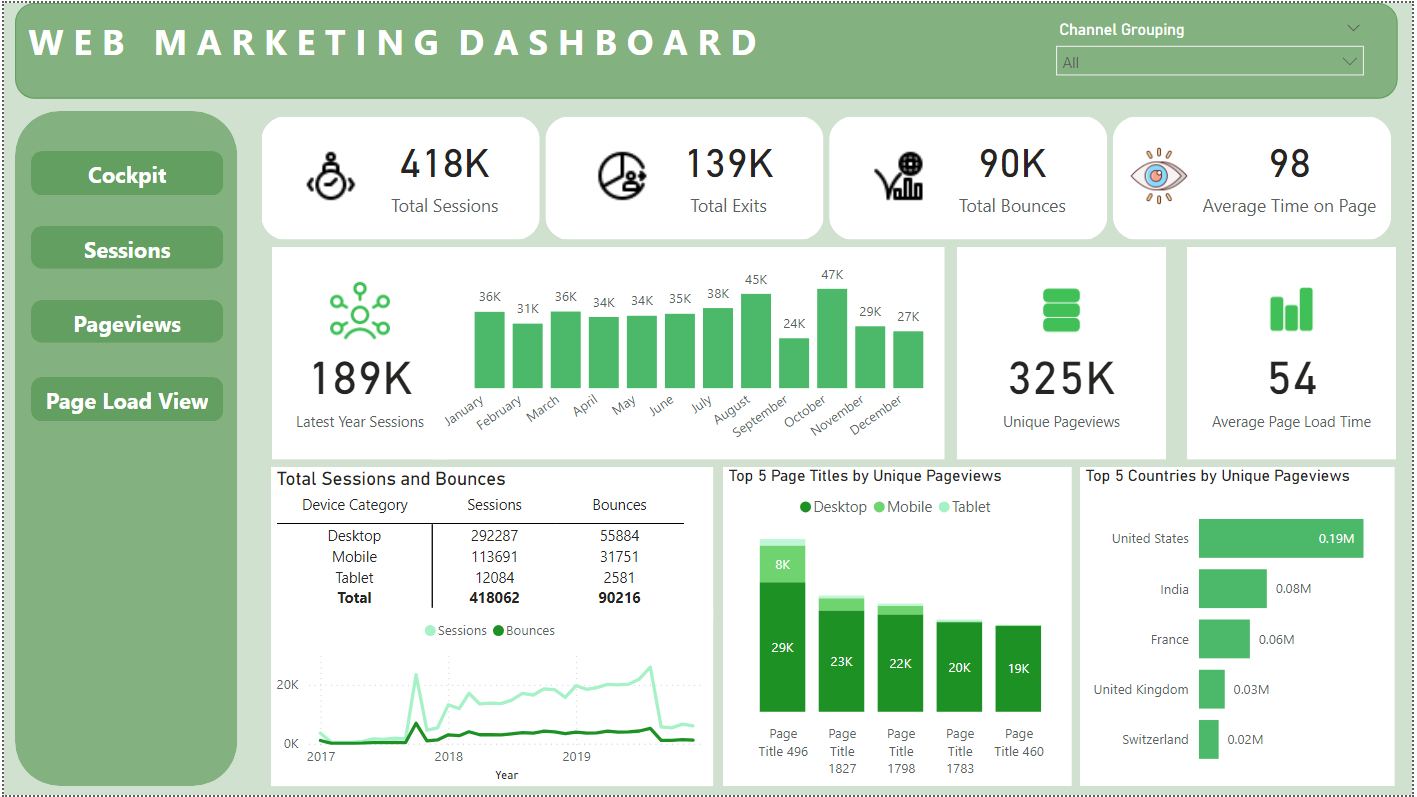

The page's visual inventory and layout, read from the dashboard file:
{"tool":"powerbi","page":{"name":"Page 1","canvas":[1280,720],"ordinal":0},"visuals":[{"type":"textbox","box":[9.7,0,1256.5,87.4],"z":0},{"type":"shape","box":[9.8,98.4,202.2,613.6],"z":1000},{"type":"actionButton","box":[24.3,134.4,174.9,40.5],"z":2000},{"type":"actionButton","box":[24.3,202.4,174.9,38.9],"z":3000},{"type":"actionButton","box":[24.3,270.4,174.9,38.9],"z":4000},{"type":"actionButton","box":[24.3,340,174.9,40.5],"z":5000},{"type":"cardVisual","fields":{"Data":["Sum(Web Marketing_Migrated Data.Sessions)","Sum(Web Marketing_Migrated Data.Exits)","Sum(Web Marketing_Migrated Data.Bounces)","Avg(Web Marketing_Migrated Data.Time on Page)"]},"box":[228.7,98.3,1037.5,122.8],"z":6000},{"type":"cardVisual","fields":{"Data":["Sum(Web Marketing_Migrated Data.Sessions)"]},"box":[243.3,221.7,160,193.3],"z":7000},{"type":"cardVisual","fields":{"Data":["Sum(Web Marketing_Migrated Data.Unique Pageviews)"]},"box":[866.7,221.7,190,193.3],"z":8000},{"type":"cardVisual","fields":{"Data":["Avg(Web Marketing_Migrated Data.Page Load Time)"]},"box":[1075,221.7,190,193.3],"z":9000},{"type":"columnChart","title":"Sessions by Month","fields":{"Category":["Web Marketing_Migrated Data.Date.Variation.Date Hierarchy.Month"],"Y":["Sum(Web Marketing_Migrated Data.Sessions)"]},"box":[390,221.7,465,193.3],"z":10000},{"type":"pivotTable","title":"Total Sessions and Bounces","fields":{"Rows":["Web Marketing_Migrated Data.Device Category"],"Values":["Sum(Web Marketing_Migrated Data.Sessions)","Sum(Web Marketing_Migrated Data.Bounces)"]},"box":[243,422.1,401.7,139.2],"z":11000},{"type":"lineChart","fields":{"Category":["Web Marketing_Migrated Data.Date.Variation.Date Hierarchy.Year","Web Marketing_Migrated Data.Date.Variation.Date Hierarchy.Month"],"Y":["Sum(Web Marketing_Migrated Data.Sessions)","Sum(Web Marketing_Migrated Data.Bounces)"]},"box":[243,550.6,401.7,161.4],"z":12000},{"type":"columnChart","title":"Top 5 Page Titles by Unique Pageviews","fields":{"Y":["Sum(Web Marketing_Migrated Data.Unique Pageviews)"],"Category":["Web Marketing_Migrated Data.Page Title"],"Series":["Web Marketing_Migrated Data.Device Category"]},"box":[653.6,422.1,317.1,289.8],"z":13000},{"type":"clusteredBarChart","title":"Top 5 Countries by Unique Pageviews","fields":{"Y":["Sum(Web Marketing_Migrated Data.Unique Pageviews)"],"Category":["Web Marketing_Migrated Data.Country"]},"box":[978.5,422.1,286,289.8],"z":14000},{"type":"slicer","fields":{"Values":["Web Marketing_Migrated Data.Channel Grouping"]},"box":[946.4,10.7,299.6,67.1],"z":15000}]}

Visuals, with their boxes in screenshot pixels (x1, y1, x2, y2), scaled from the page's 1280x720 canvas onto the 1417x797 screenshot:
textbox: x1=11 y1=0 x2=1402 y2=97
shape: x1=11 y1=109 x2=235 y2=788
actionButton: x1=27 y1=149 x2=221 y2=194
actionButton: x1=27 y1=224 x2=221 y2=267
actionButton: x1=27 y1=299 x2=221 y2=342
actionButton: x1=27 y1=376 x2=221 y2=421
cardVisual - Sum(Web Marketing_Migrated Data.Sessions) x Sum(Web Marketing_Migrated Data.Exits): x1=253 y1=109 x2=1402 y2=245
cardVisual - Sum(Web Marketing_Migrated Data.Sessions): x1=269 y1=245 x2=446 y2=459
cardVisual - Sum(Web Marketing_Migrated Data.Unique Pageviews): x1=959 y1=245 x2=1170 y2=459
cardVisual - Avg(Web Marketing_Migrated Data.Page Load Time): x1=1190 y1=245 x2=1400 y2=459
"Sessions by Month" columnChart: x1=432 y1=245 x2=947 y2=459
"Total Sessions and Bounces" pivotTable: x1=269 y1=467 x2=714 y2=621
lineChart - Web Marketing_Migrated Data.Date.Variation.Date Hierarchy.Year x Web Marketing_Migrated Data.Date.Variation.Date Hierarchy.Month: x1=269 y1=609 x2=714 y2=788
"Top 5 Page Titles by Unique Pageviews" columnChart: x1=724 y1=467 x2=1075 y2=788
"Top 5 Countries by Unique Pageviews" clusteredBarChart: x1=1083 y1=467 x2=1400 y2=788
slicer - Web Marketing_Migrated Data.Channel Grouping: x1=1048 y1=12 x2=1379 y2=86
